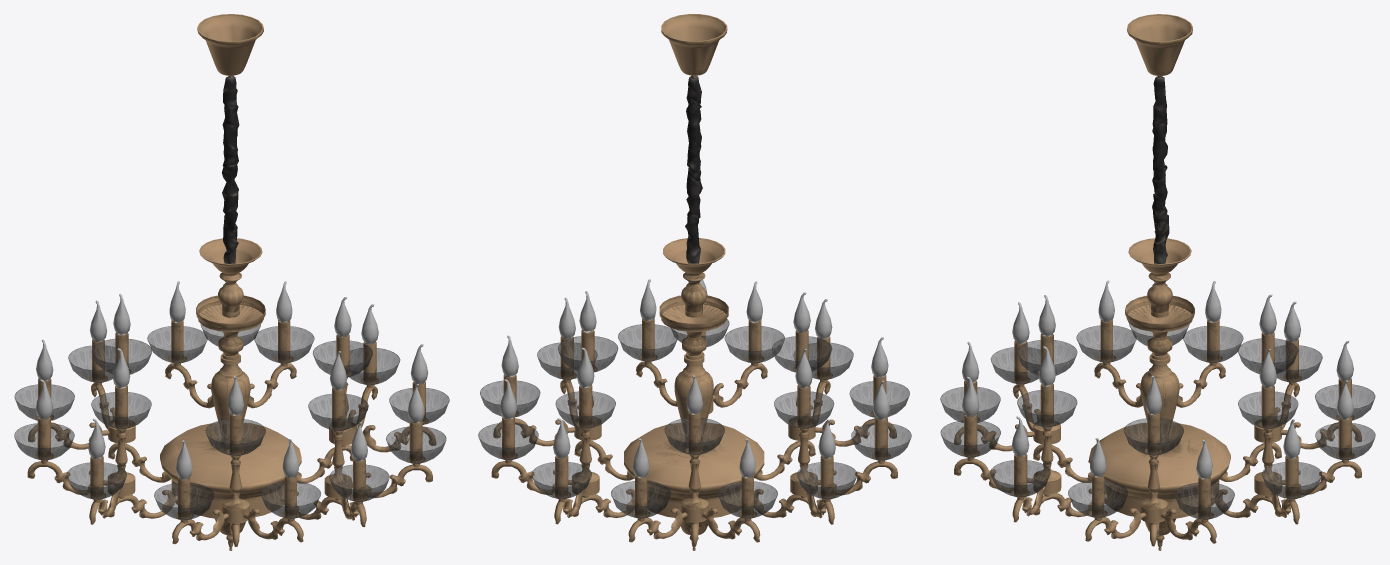
The model's file is ph-Chandelier_03.glb.
3 views of the same model, side by side, from view 1: azimuth 30°, elevation 25°; view 2: azimuth 150°, elevation 25°; view 3: azimuth 270°, elevation 25° (orthographic).
Visible parts, largest first — view 1: Chandelier_03; view 2: Chandelier_03; view 3: Chandelier_03.
Part boxes in pixels (x1=…): Chandelier_03: x1=14, y1=14, x2=449, y2=550; Chandelier_03: x1=478, y1=14, x2=911, y2=550; Chandelier_03: x1=940, y1=14, x2=1375, y2=550.
Size of the model in its own units: 0.75 by 1 by 0.7548.
2 materials, 2 textured.
